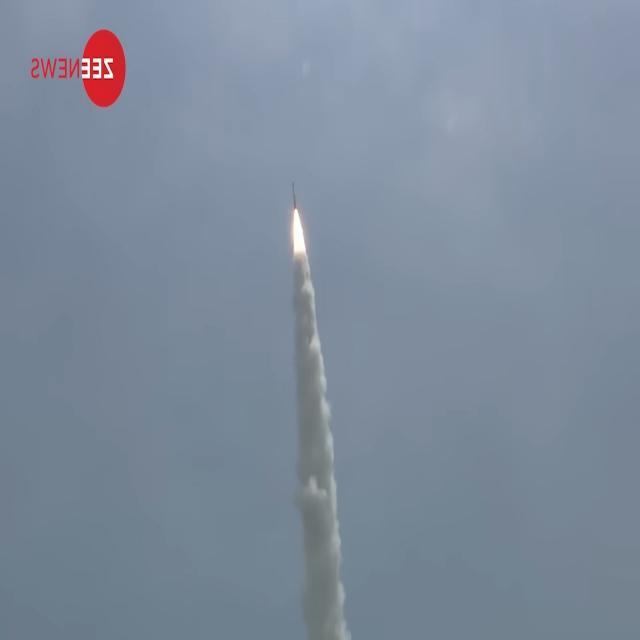missile: (290, 180, 298, 213)
